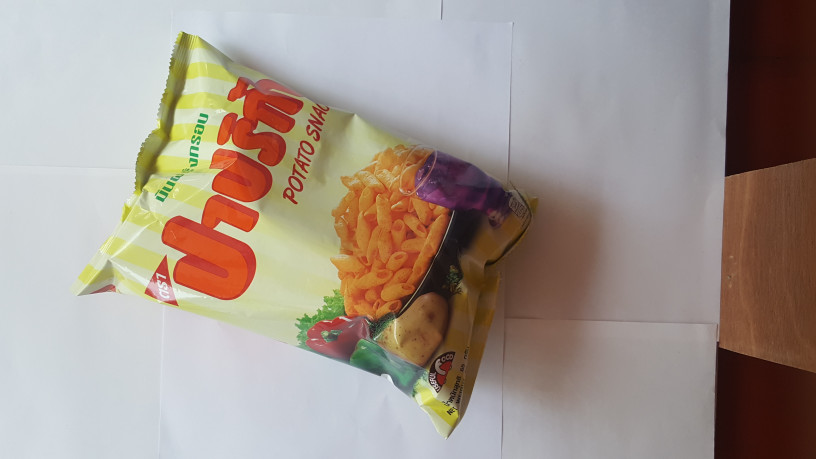paprika: (74, 23, 556, 441)
